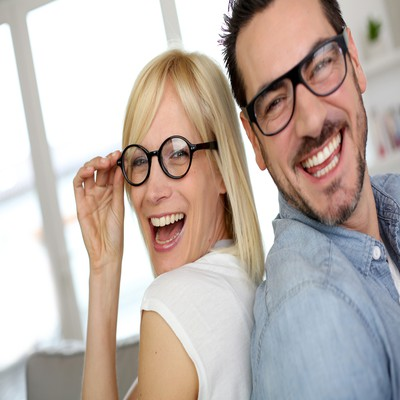eywear: (238, 47, 358, 146), (113, 116, 208, 188)
